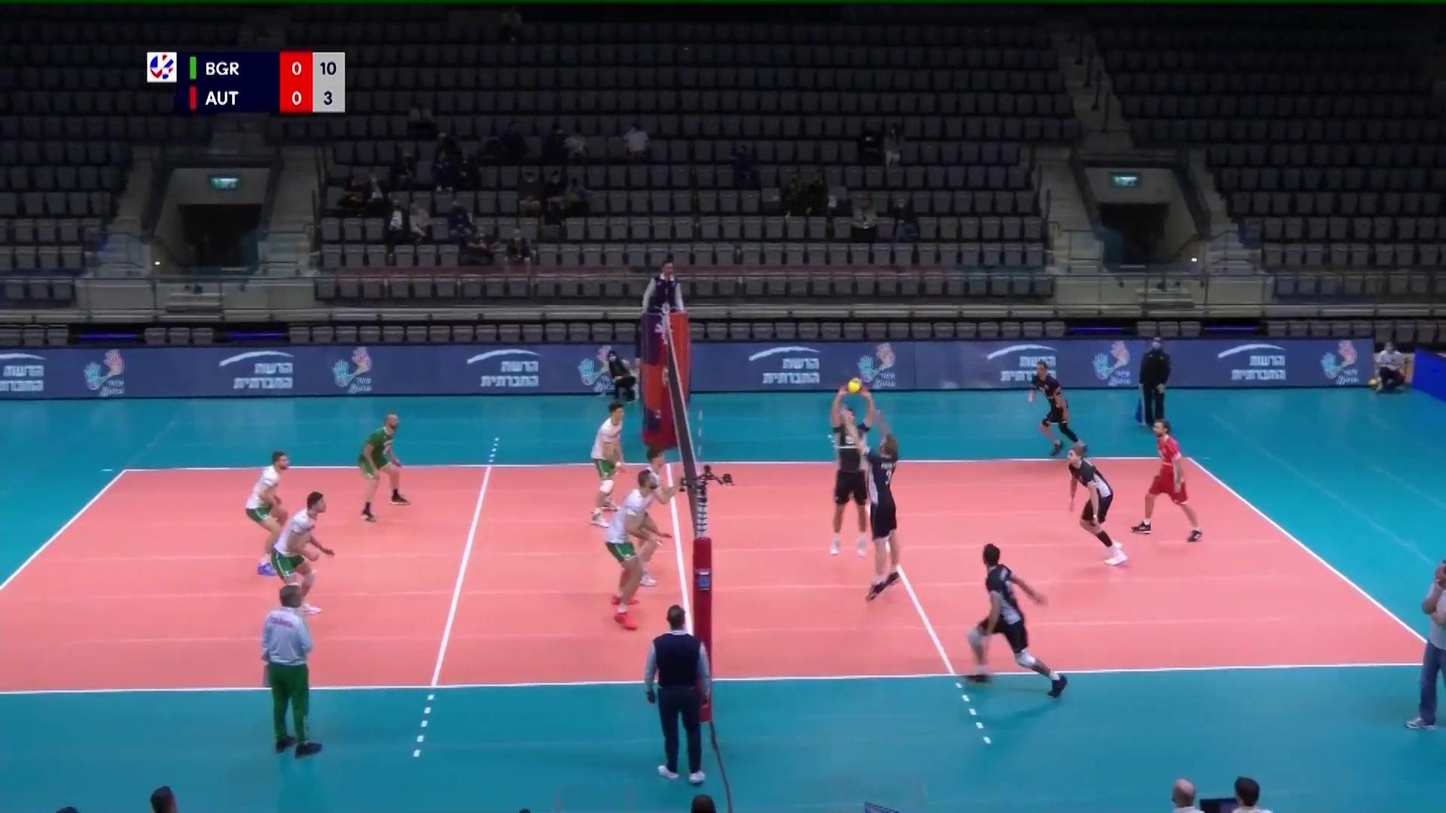ball: (849, 377, 865, 396)
